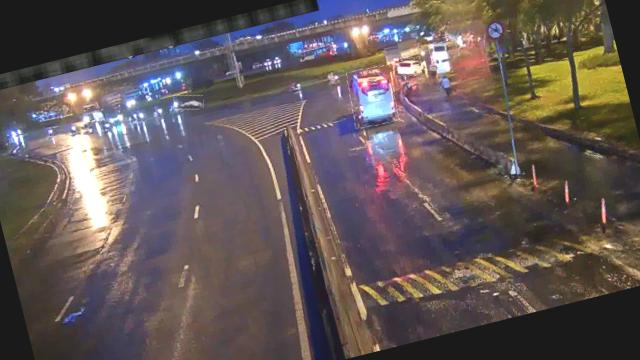Bus: (344, 63, 402, 130), (428, 38, 461, 62)
Car: (391, 54, 424, 80), (172, 91, 205, 114)
